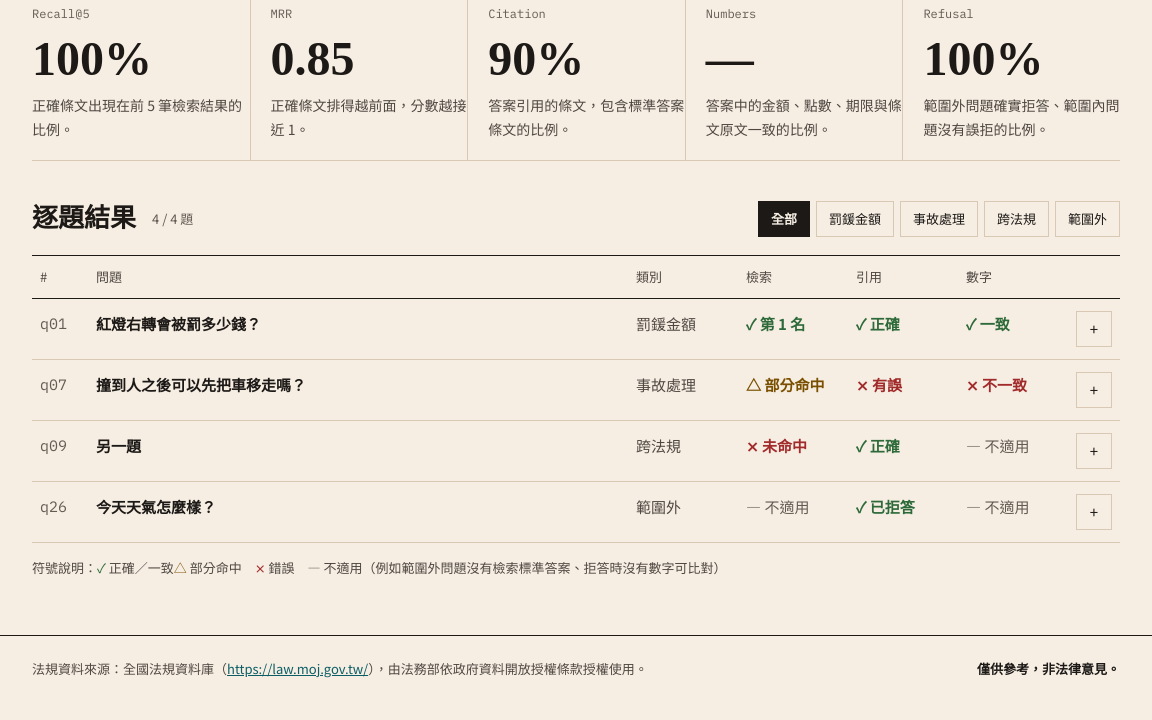
Scenario: 評估頁 › says an out-of-scope question should be refused
This screenshot has width=1152, height=720.
(page scrolled)
What coordinates should you click on to do the following:
click the button named "展開 q26"
I would click on:
 (1094, 512)
Its box is [1076,494,1112,530].
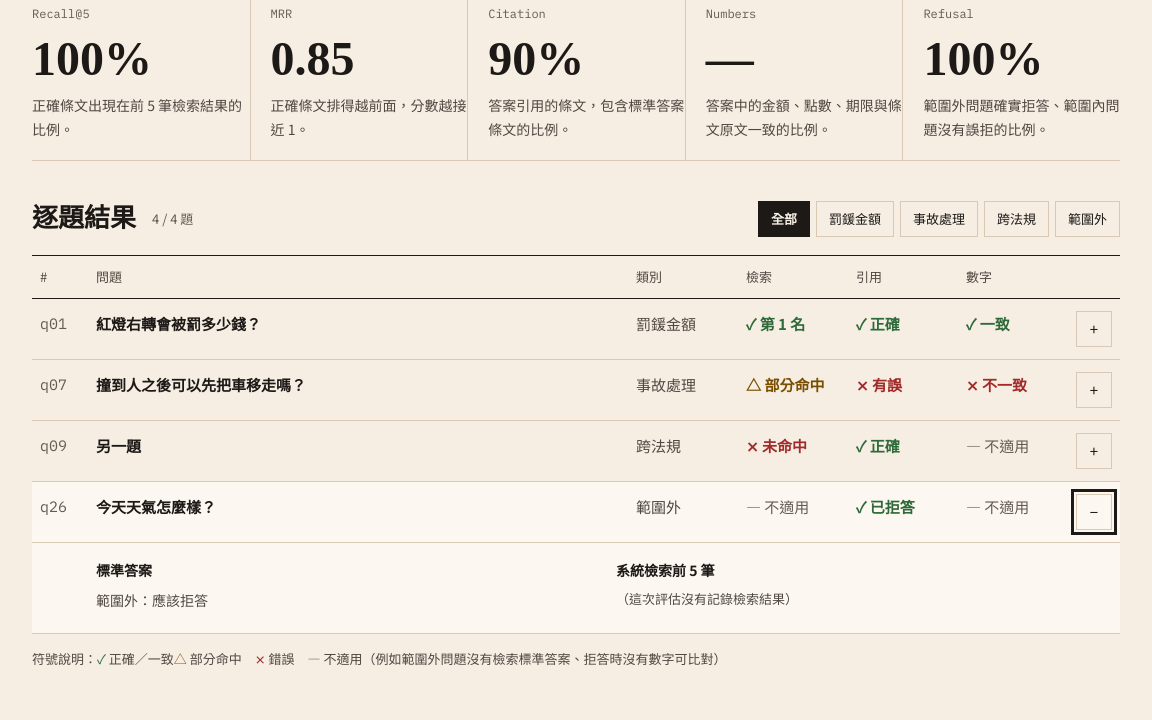
Check: the text "範圍外：應該拒答" is shown, box [96,590,208,610]
